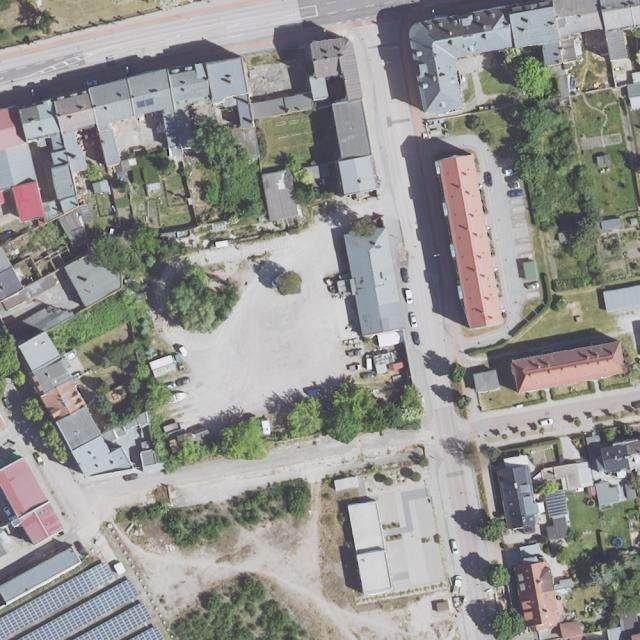PV: (15, 578, 140, 640), (72, 601, 153, 640), (546, 490, 568, 517), (125, 626, 165, 640), (145, 97, 155, 106), (136, 100, 146, 108)
